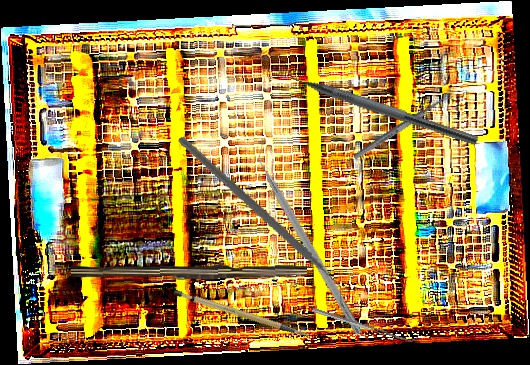Chopper: (152, 135, 369, 308), (247, 139, 374, 337), (273, 56, 484, 147)
Scalpel Handle: (171, 272, 312, 359), (70, 261, 308, 285)
Spatula Surgical: (311, 303, 419, 346)
Surgical Spoon: (352, 91, 454, 161)
